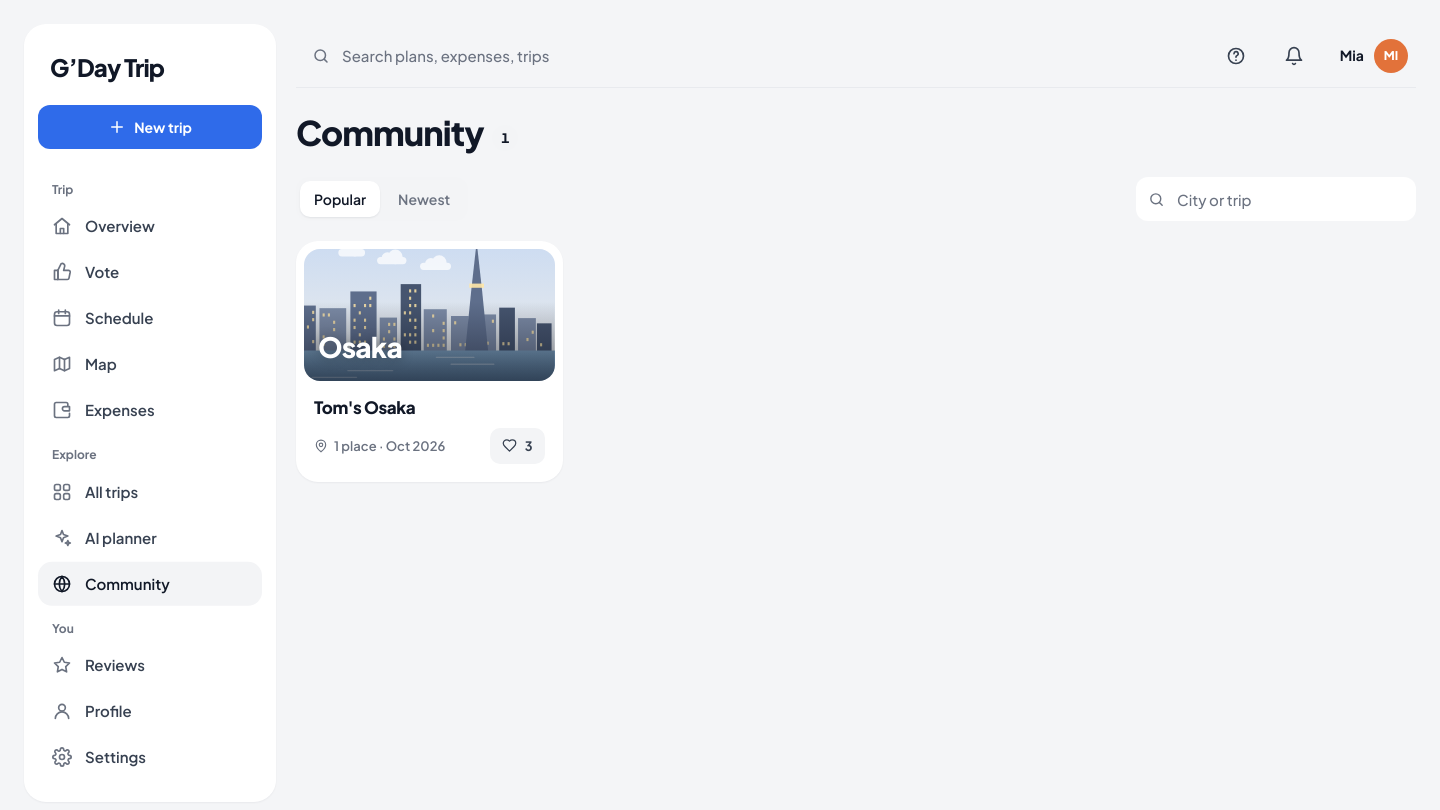
Scenario: Community › anyone can leave a public comment on a shared trip and delete their own
Check: the navigation bar with id "auth" is shown, box [38, 562, 262, 606]
Click the button "Osaka Tom's Osaka 1 place · Oct 2026 3" at (429,362), box [296, 241, 562, 482]
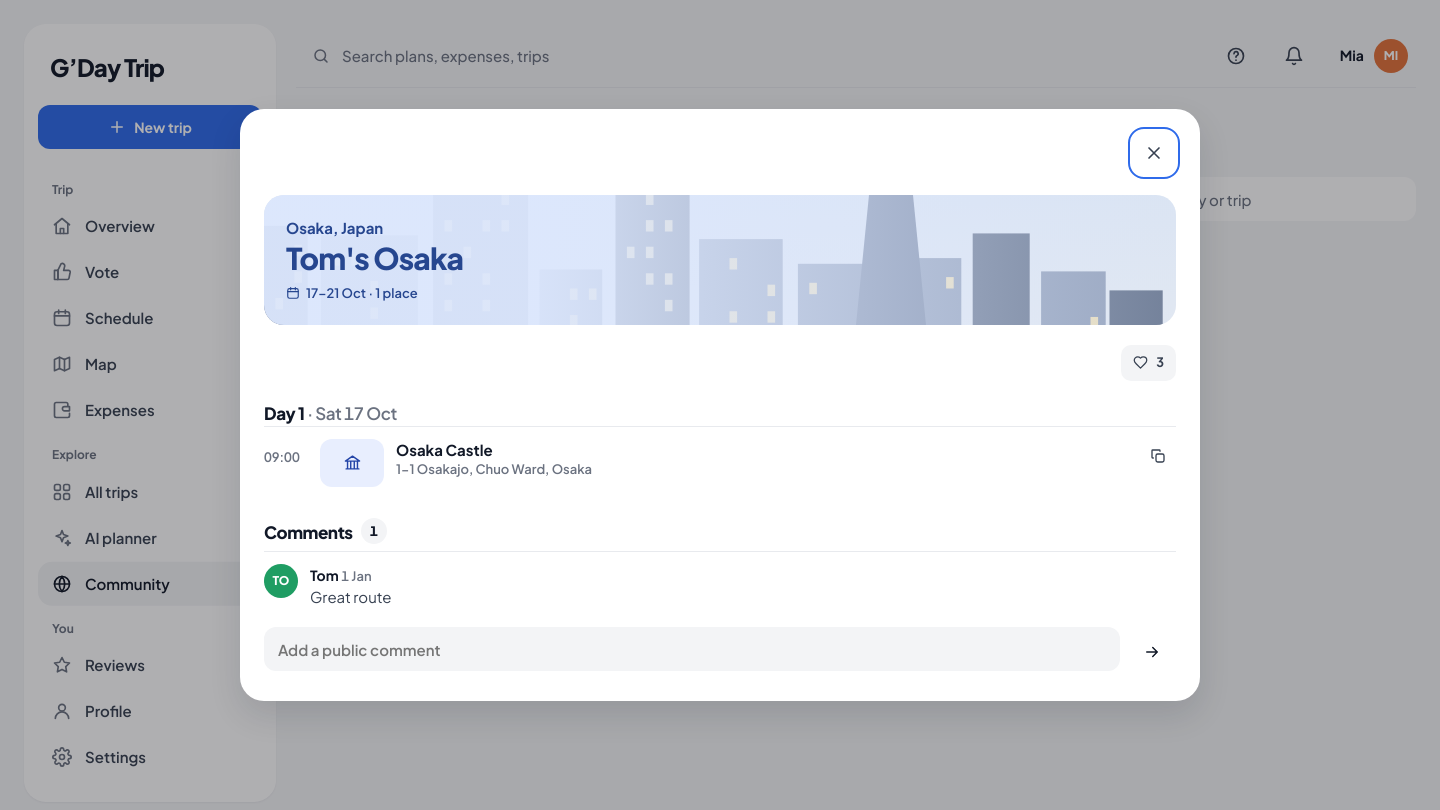
Check: the text "Great route" is shown, box [310, 586, 392, 606]
Type "Saving this" into the field labelled "Add a public comment" at (692,649), box [264, 627, 1120, 671]
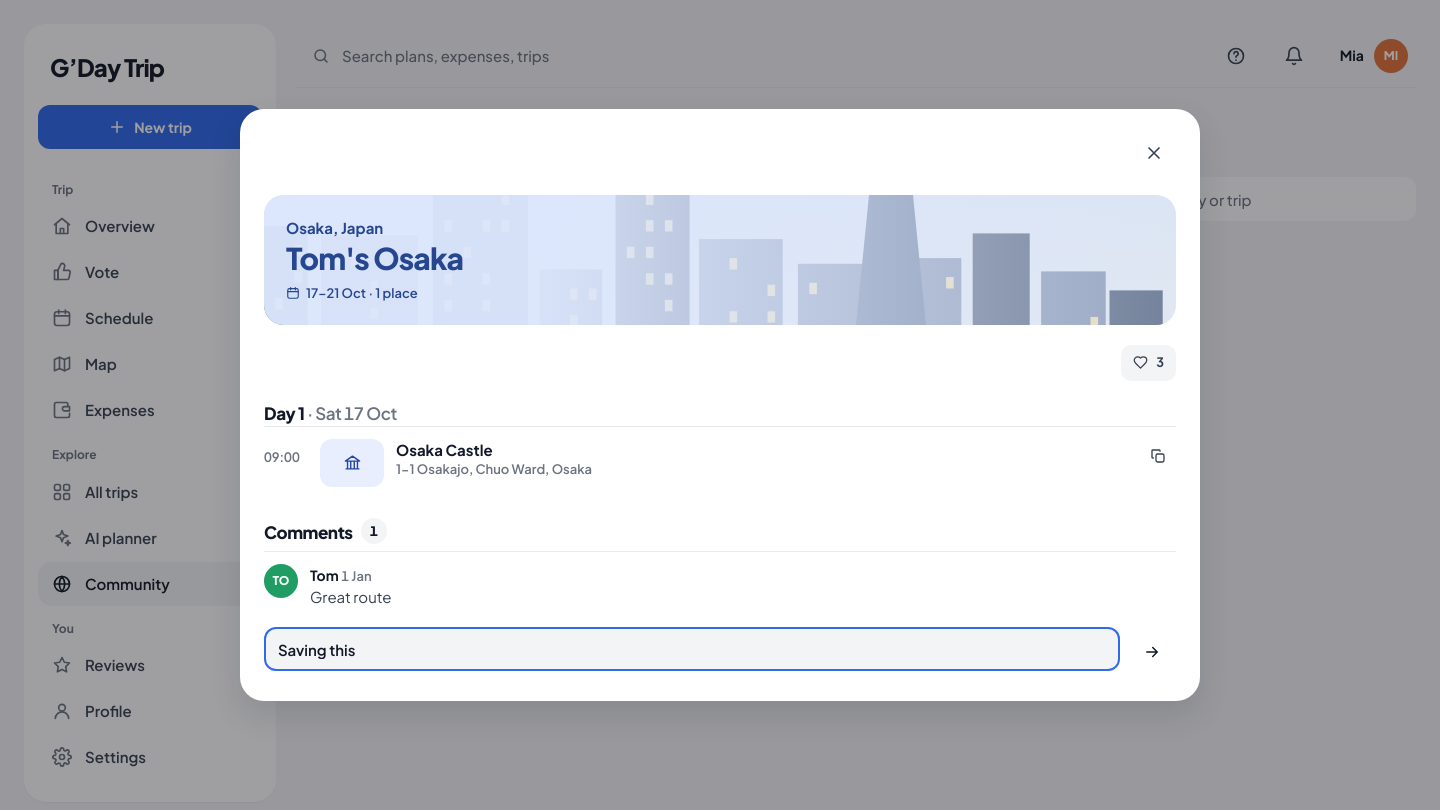
Click the button named "Post comment" at (1152,652), box [1128, 627, 1176, 677]
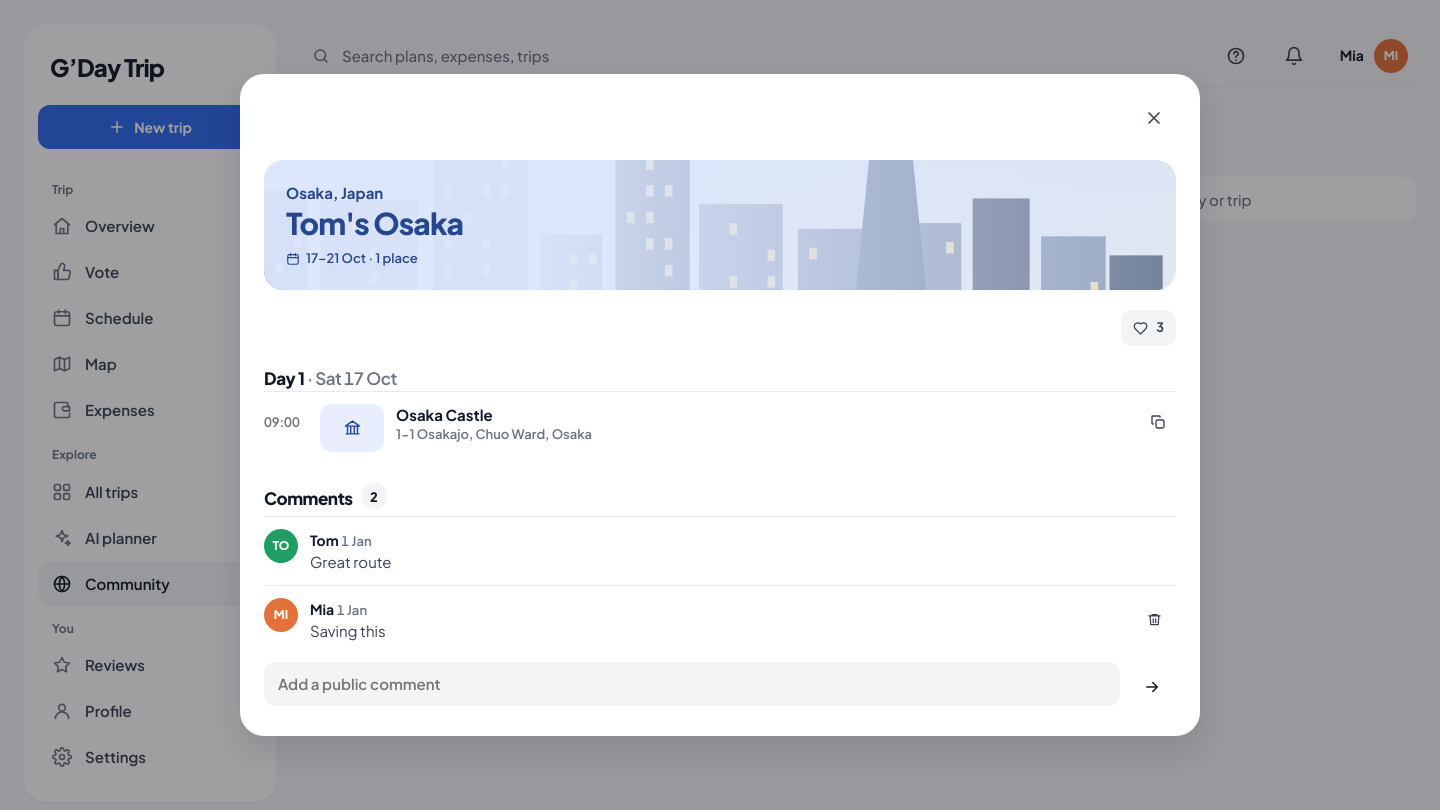
Click the button named "Delete comment" at (1154,620), box [1132, 598, 1176, 642]
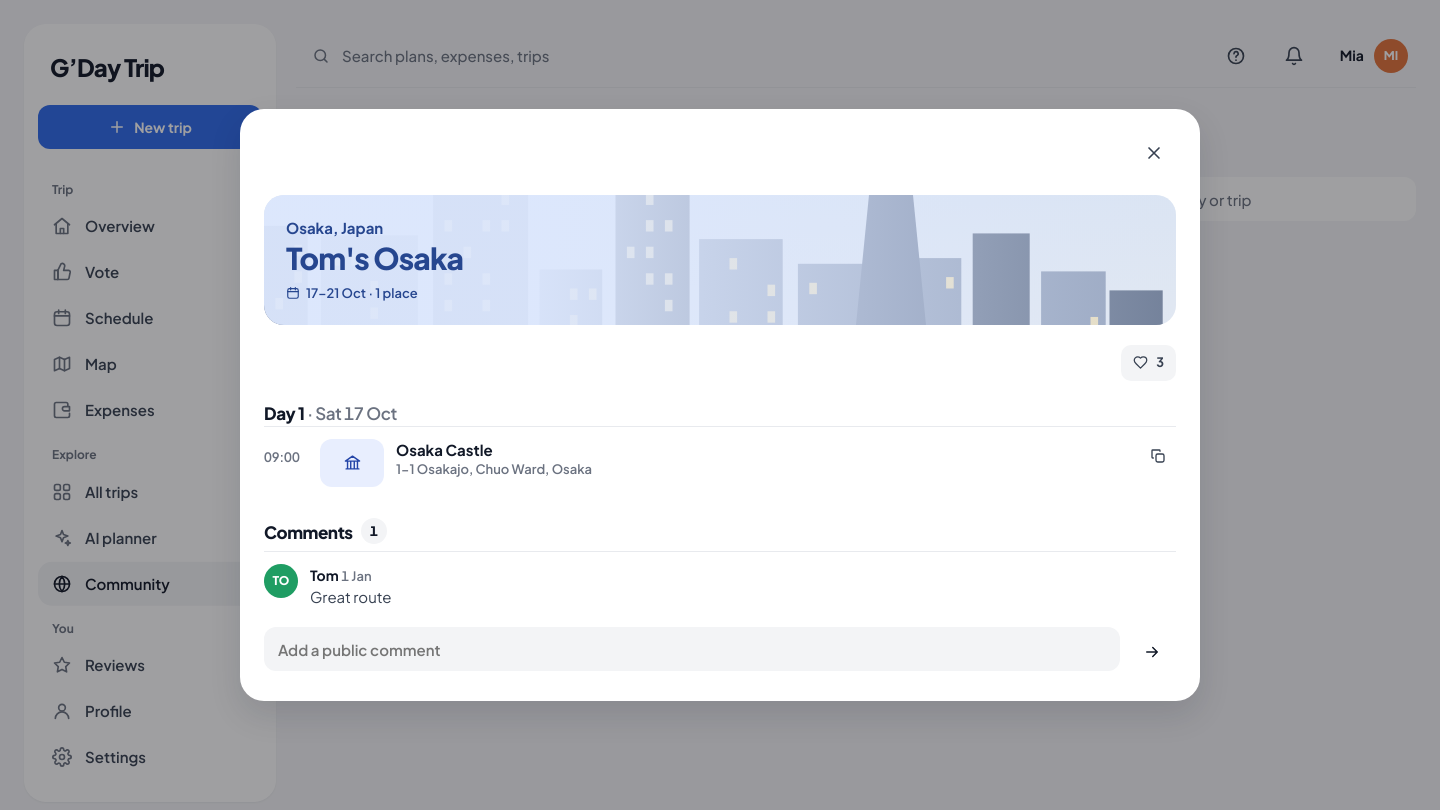
Check: the text "Saving this" is gone
